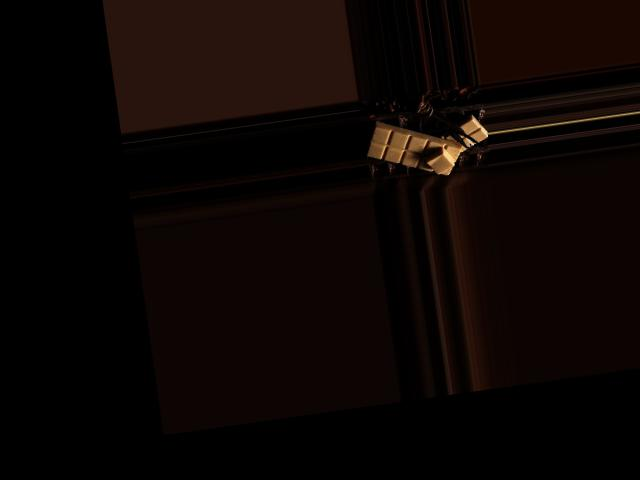chocolate: (363, 111, 468, 185)
